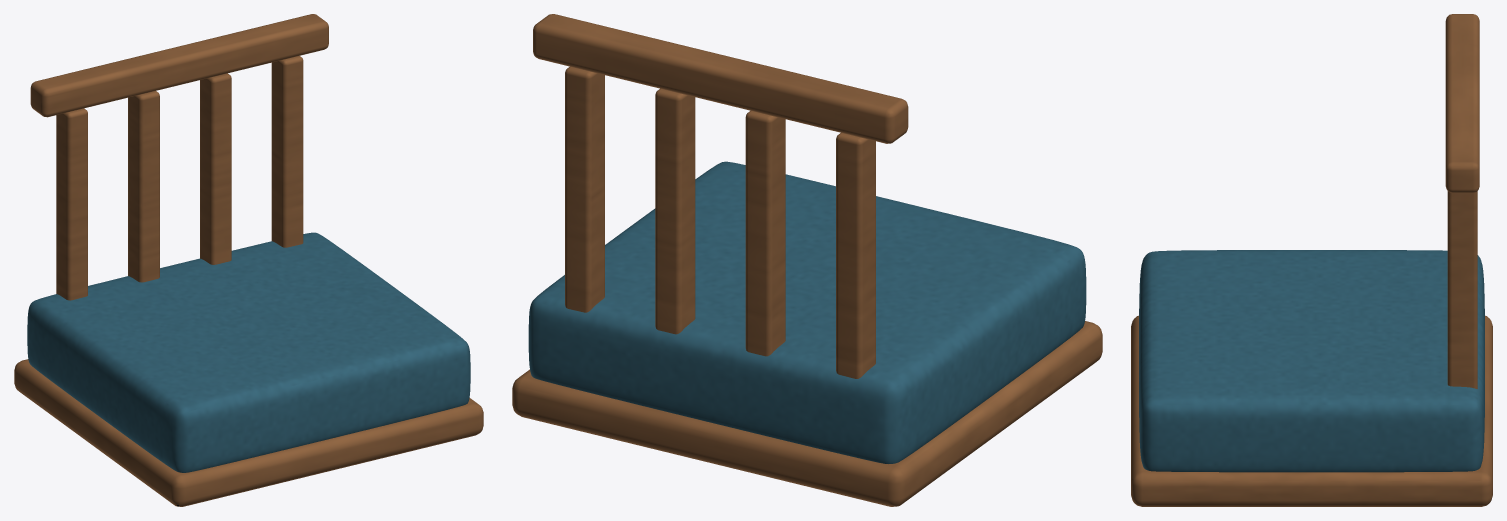
File: swivel.glb
3 views of the same model, side by side, from view 1: azimuth 30°, elevation 25°; view 2: azimuth 150°, elevation 25°; view 3: azimuth 270°, elevation 25° (orthographic). The views are drawn at different scales.
Visible parts, largest first — view 1: swivel; view 2: swivel; view 3: swivel.
Boxes of the visible parts, <box> form: swivel: <box>14,14,483,506</box>; swivel: <box>512,14,1102,506</box>; swivel: <box>1131,14,1492,506</box>.
Bounding box in the file's own units: 0.52 × 0.4975 × 0.48.
Materials: 2 (2 with a texture image).
